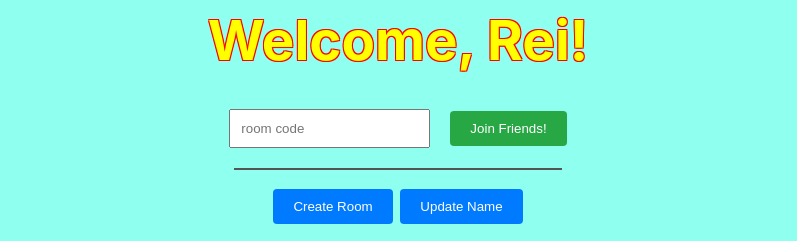
Test case: ChatRoom Component › allows user to change screen name
This screenshot has width=797, height=241.
Click the button "Update Name": [462, 206] box [400,189,523,224]
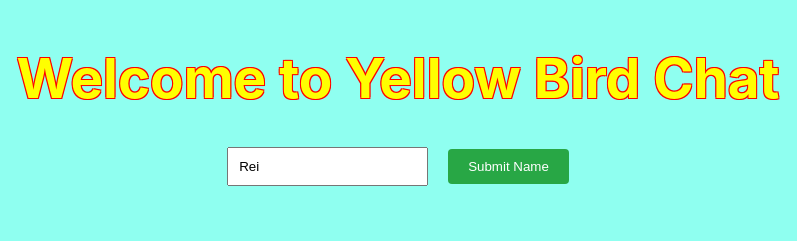
Check: the field with placeholder "Enter screen name" is shown, box [227,147,428,186]
